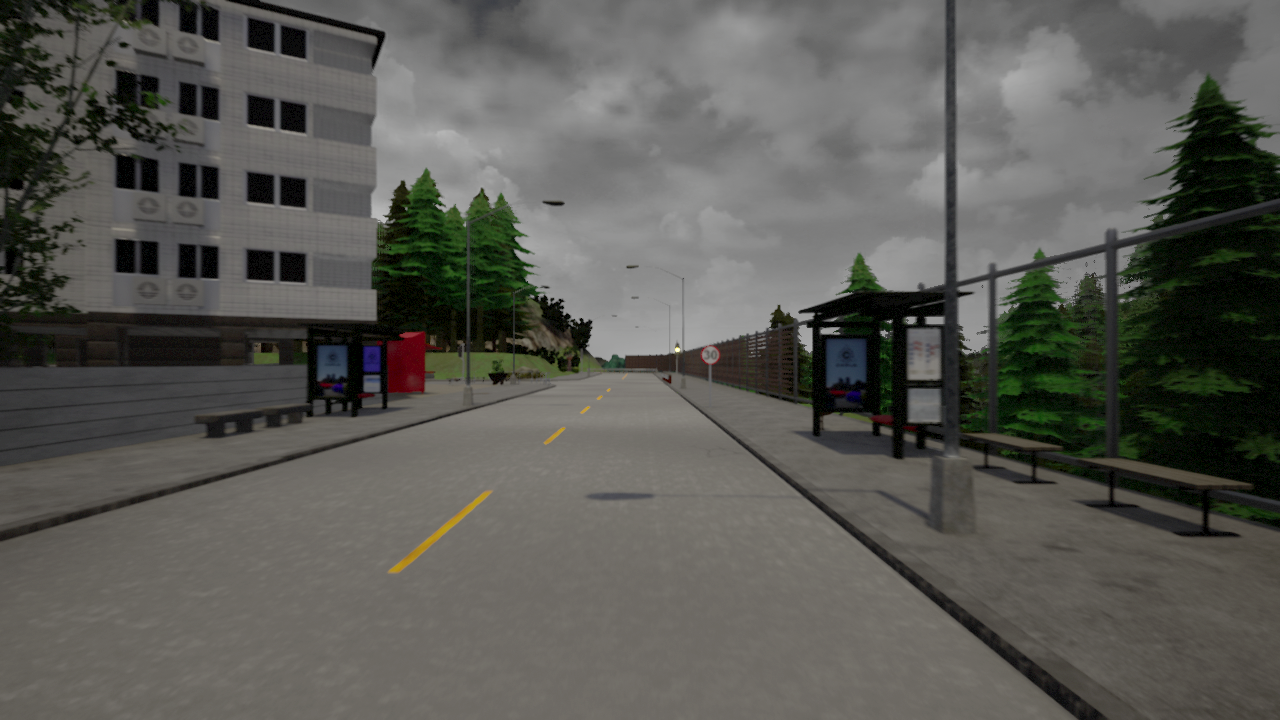yellow: (674, 343, 681, 358)
